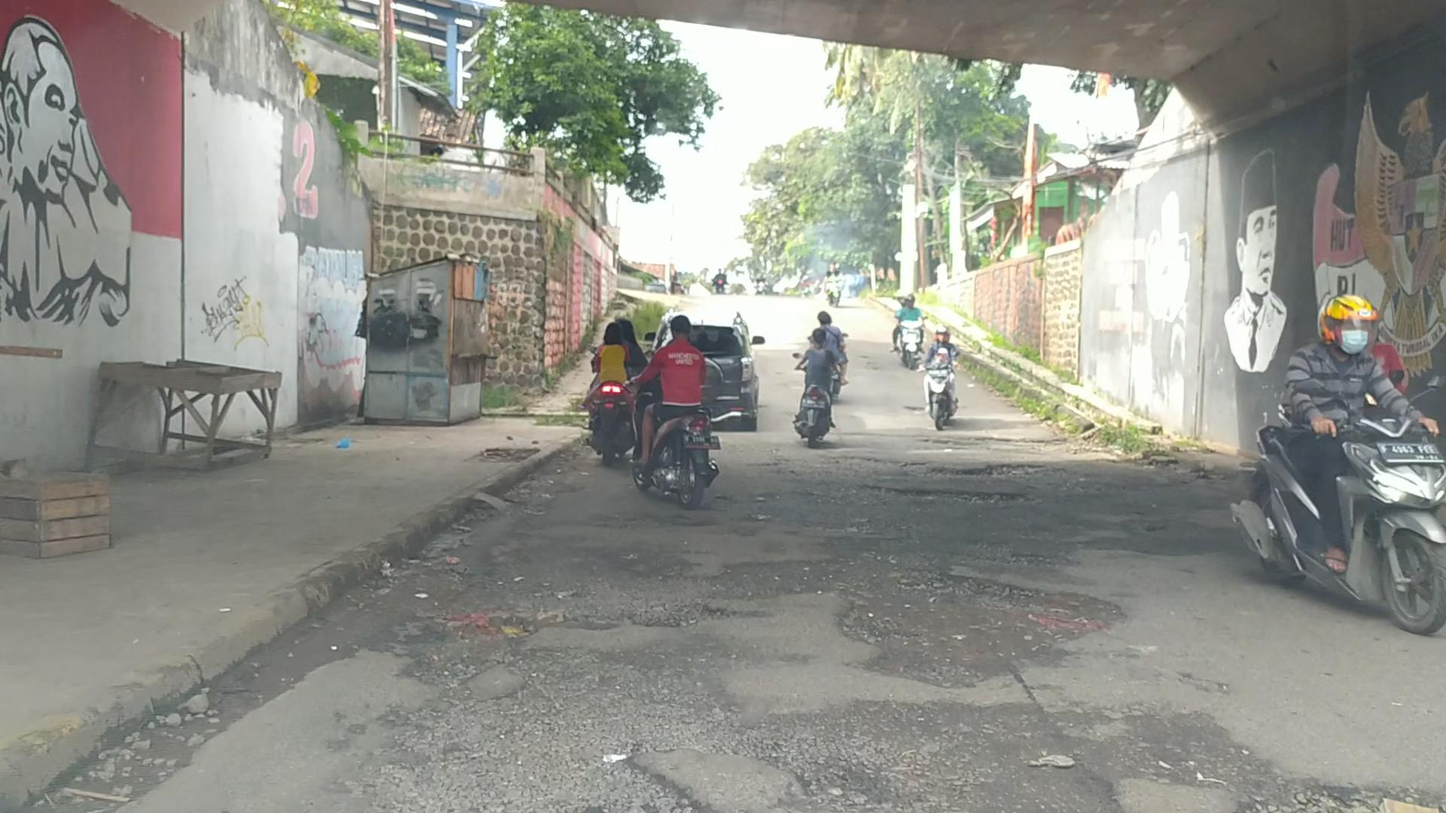pothole: (381, 661, 1117, 813), (710, 551, 1131, 691), (776, 456, 1022, 505), (924, 435, 1084, 454), (912, 460, 1051, 479)
